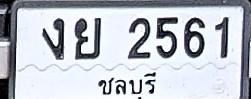1: (214, 16, 228, 58)
2: (128, 17, 150, 59)
5: (156, 16, 178, 58)
6: (184, 17, 205, 58)
A07: (42, 17, 64, 59)
A34: (74, 16, 102, 60)
CBI: (95, 71, 163, 99)
